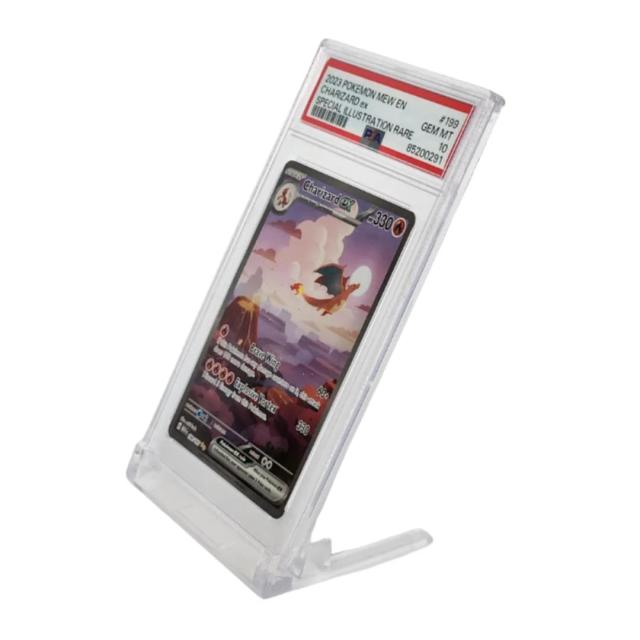card: (168, 160, 417, 519)
